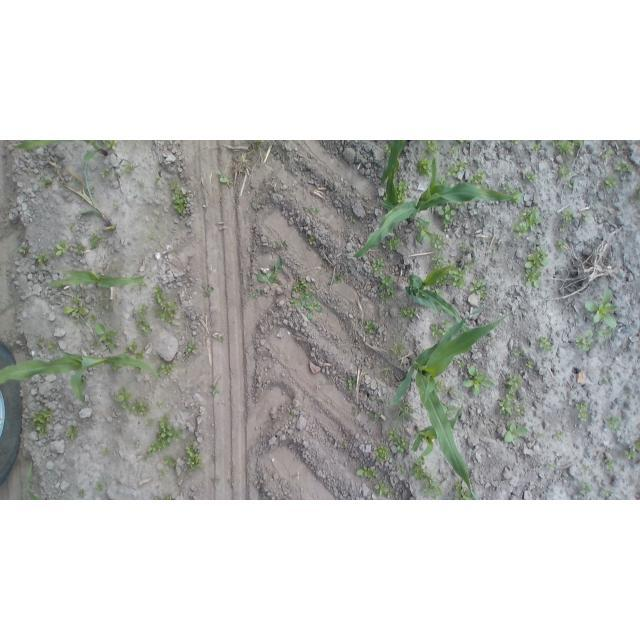Maize: (394, 309, 513, 500), (344, 158, 518, 258), (0, 350, 158, 415), (405, 264, 473, 334), (411, 390, 463, 467), (23, 461, 112, 500), (382, 140, 411, 212), (47, 268, 148, 288), (11, 140, 110, 160)
Weeds: (144, 414, 183, 459), (585, 289, 618, 328), (499, 374, 526, 414), (524, 245, 549, 287), (511, 206, 543, 238), (463, 366, 494, 395), (27, 408, 54, 437), (300, 289, 324, 319), (257, 261, 284, 284), (95, 323, 118, 350), (169, 182, 187, 215), (387, 427, 409, 453), (62, 296, 89, 317), (422, 476, 444, 500), (156, 300, 178, 324), (449, 262, 467, 290), (394, 401, 415, 424), (505, 421, 528, 442), (185, 446, 204, 471), (438, 202, 456, 228), (373, 445, 395, 466), (452, 477, 472, 500), (410, 456, 428, 480), (467, 170, 487, 191), (575, 330, 593, 352), (550, 141, 575, 156), (417, 219, 433, 242), (447, 160, 467, 178), (375, 478, 393, 498), (395, 180, 410, 204), (129, 399, 149, 417), (416, 158, 433, 179), (470, 280, 487, 301), (115, 388, 131, 409), (135, 314, 151, 334), (560, 209, 573, 232), (385, 235, 403, 251), (431, 232, 446, 251), (424, 140, 440, 157), (442, 401, 458, 418), (153, 285, 168, 303), (576, 402, 589, 422), (506, 189, 522, 205), (90, 232, 106, 248), (430, 324, 447, 339), (55, 239, 70, 256), (157, 364, 176, 377), (356, 466, 376, 478), (538, 338, 554, 353), (613, 160, 633, 172), (598, 326, 612, 343), (432, 252, 445, 270), (292, 280, 310, 293), (216, 170, 230, 186), (379, 275, 393, 290), (605, 175, 619, 190), (399, 307, 418, 318), (372, 259, 385, 274), (124, 342, 137, 357), (380, 288, 396, 300), (522, 170, 538, 182), (609, 416, 622, 430), (559, 165, 571, 180), (436, 273, 448, 287), (34, 253, 48, 265), (66, 425, 78, 439), (433, 377, 444, 392), (365, 319, 376, 333), (274, 240, 290, 249), (624, 449, 637, 460), (164, 456, 177, 467), (39, 177, 51, 188), (581, 483, 592, 495), (202, 284, 213, 296), (289, 297, 301, 308), (186, 342, 196, 354), (330, 274, 342, 284), (304, 206, 321, 213), (348, 378, 357, 391), (134, 280, 147, 289), (392, 345, 403, 355), (101, 168, 112, 178), (47, 341, 57, 352), (531, 142, 542, 152), (431, 289, 443, 298), (106, 141, 118, 150), (572, 140, 585, 148), (75, 245, 85, 255), (605, 459, 614, 470), (442, 320, 451, 331), (140, 304, 149, 315), (136, 349, 145, 360), (557, 239, 566, 250), (602, 150, 613, 159), (369, 412, 381, 420), (212, 383, 220, 395), (385, 144, 392, 157), (464, 260, 474, 269), (123, 163, 132, 173), (251, 290, 261, 299), (111, 364, 122, 372), (398, 467, 407, 476), (526, 360, 535, 369), (449, 147, 459, 155), (133, 365, 144, 372), (583, 211, 590, 222), (634, 440, 640, 452), (88, 314, 96, 323), (514, 348, 523, 356), (459, 243, 469, 250), (635, 186, 640, 200), (77, 488, 85, 496), (458, 359, 466, 367), (20, 247, 29, 254), (81, 382, 88, 391), (96, 482, 103, 491), (603, 490, 611, 497), (546, 463, 554, 470), (445, 387, 452, 395), (604, 376, 612, 383), (74, 317, 83, 323), (568, 180, 574, 189), (503, 183, 510, 190), (583, 466, 590, 473), (240, 154, 247, 161), (556, 432, 562, 440), (309, 236, 315, 244), (382, 367, 389, 373), (149, 233, 156, 239), (103, 449, 110, 455), (288, 413, 295, 419), (350, 216, 356, 223), (383, 193, 388, 201), (100, 293, 105, 301), (458, 141, 471, 144), (537, 432, 543, 438), (511, 140, 520, 144), (456, 201, 461, 208), (153, 178, 160, 183), (109, 307, 114, 314), (488, 335, 493, 342), (39, 337, 43, 345), (69, 222, 74, 228), (114, 203, 119, 209), (158, 402, 163, 408), (115, 171, 120, 177), (140, 182, 145, 188), (160, 472, 164, 479), (76, 284, 81, 289), (514, 415, 520, 419), (55, 284, 61, 288), (135, 440, 139, 446), (165, 496, 171, 500), (215, 480, 219, 486), (344, 440, 348, 446), (493, 251, 500, 254), (419, 140, 424, 144), (254, 140, 264, 142), (252, 203, 257, 207), (565, 158, 569, 163), (155, 497, 161, 500), (158, 218, 162, 222), (218, 337, 222, 341), (90, 187, 95, 190), (102, 141, 106, 144), (595, 200, 598, 204)
